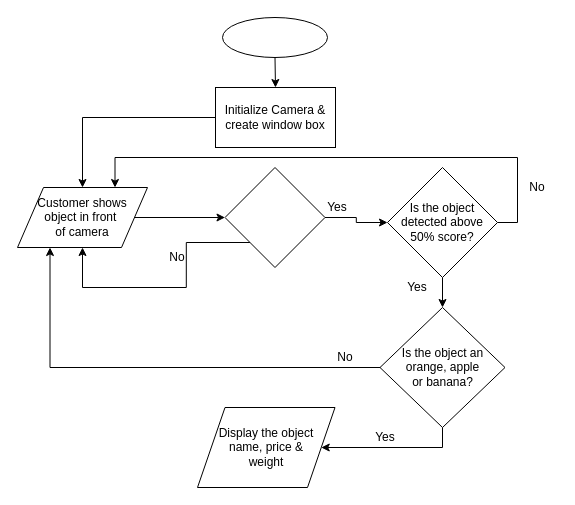
The diagram is 575 pixels wide and 505 high, and some of its shapes have lost their labels. Here are the shapes that lost their labels. From the top down, the box of each, then its label:
(222, 16, 328, 58): Start
(224, 166, 325, 268): Is the object in model file?
